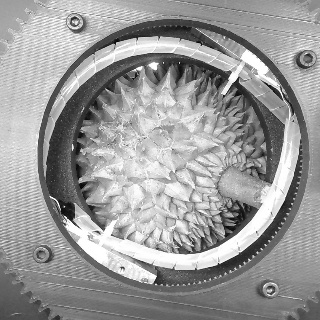base: (215, 163, 240, 203)
end: (259, 183, 270, 206)
